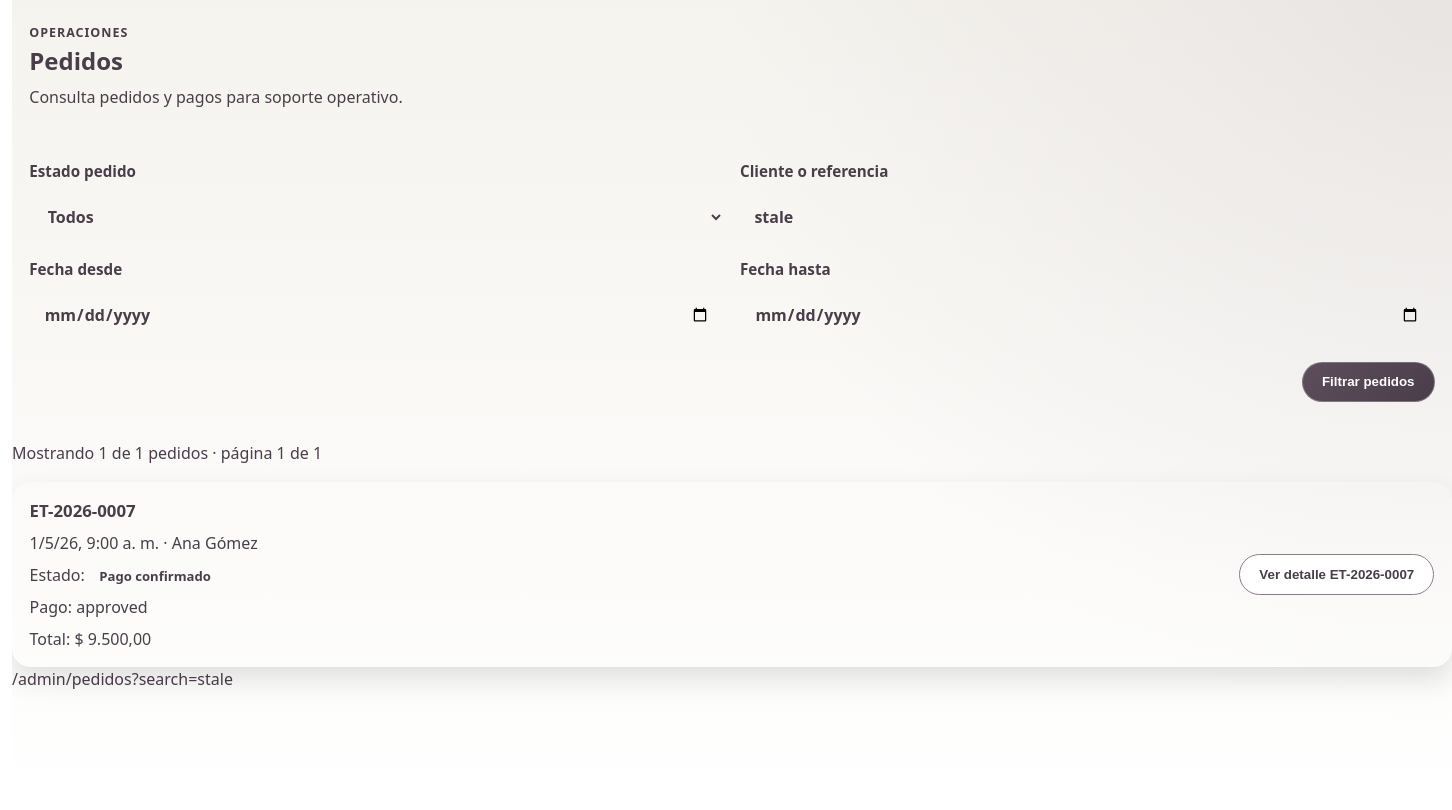
Test case: AdminOrdersPage › syncs submitted order filters back to stable query params
Expected: the text "ET-2026-0007" is shown, top-left (30, 498), bottom-right (136, 522)
Select "PAID" in the dropdown labelled "Estado pedido" at (377, 217), box top-left (29, 192), bottom-right (724, 242)
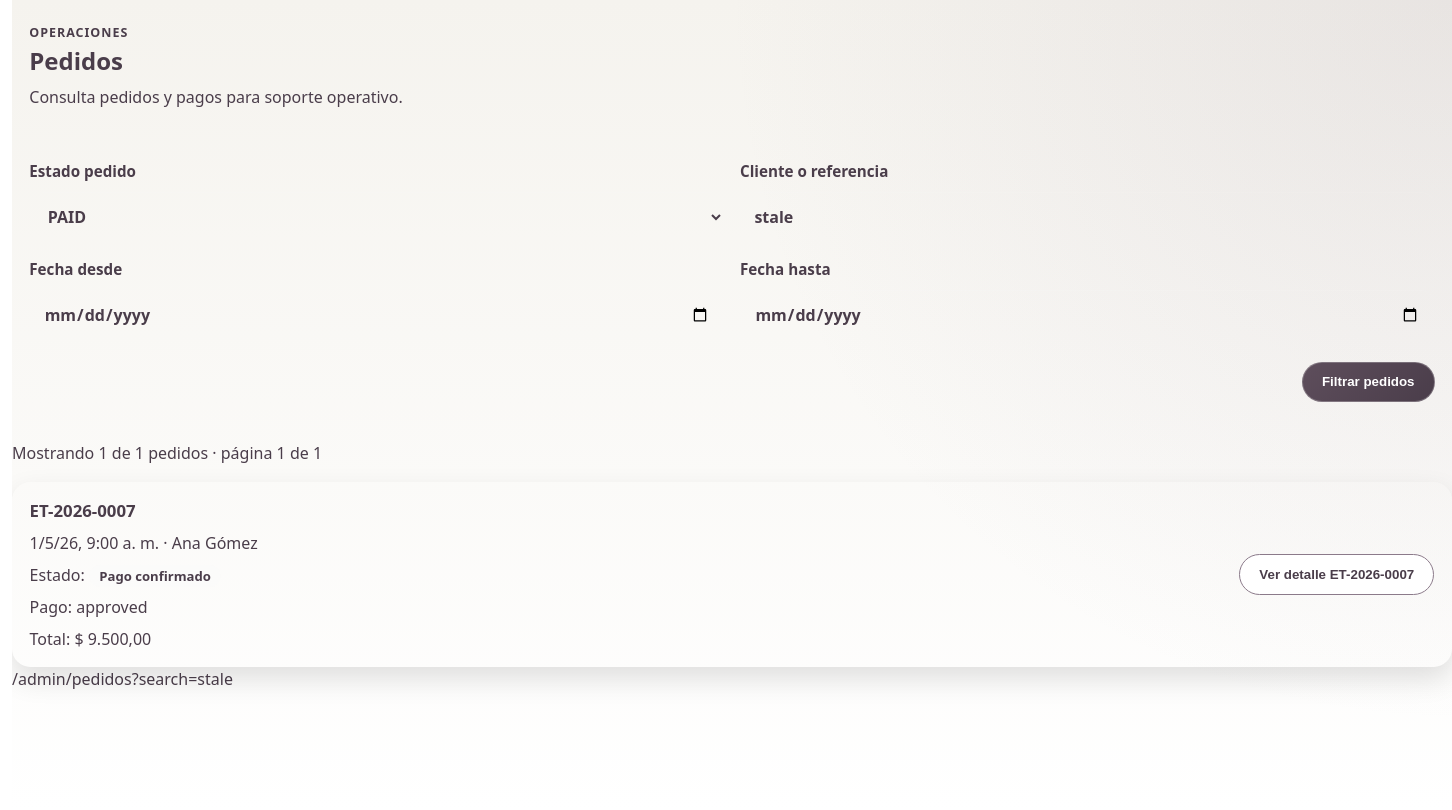
Replace the text in the field labelled "Cliente o referencia" with " Ana " at (1087, 217), box top-left (740, 192), bottom-right (1435, 242)
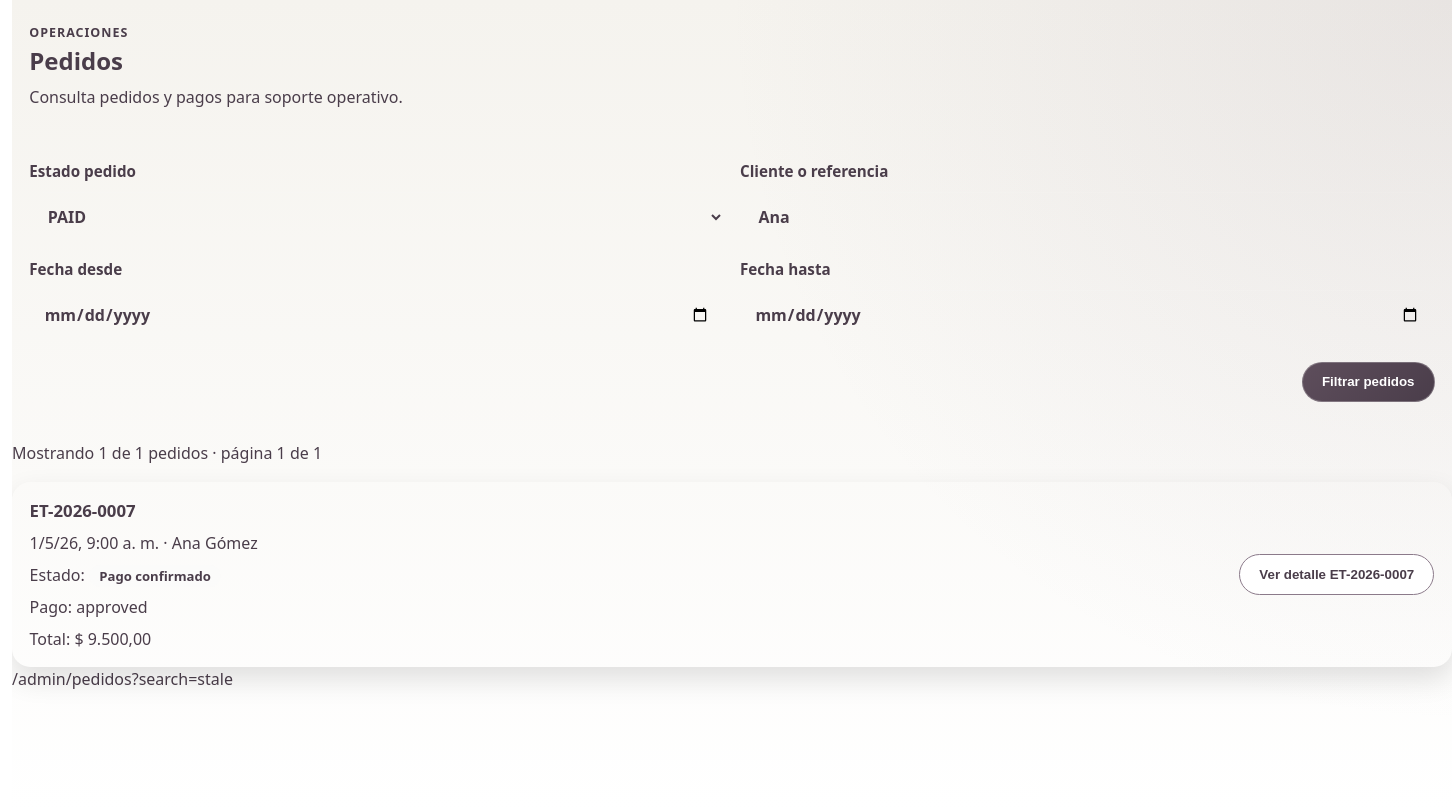
Type "2026-05-01" into the date field labelled "Fecha desde" at (377, 315), box top-left (29, 290), bottom-right (724, 340)
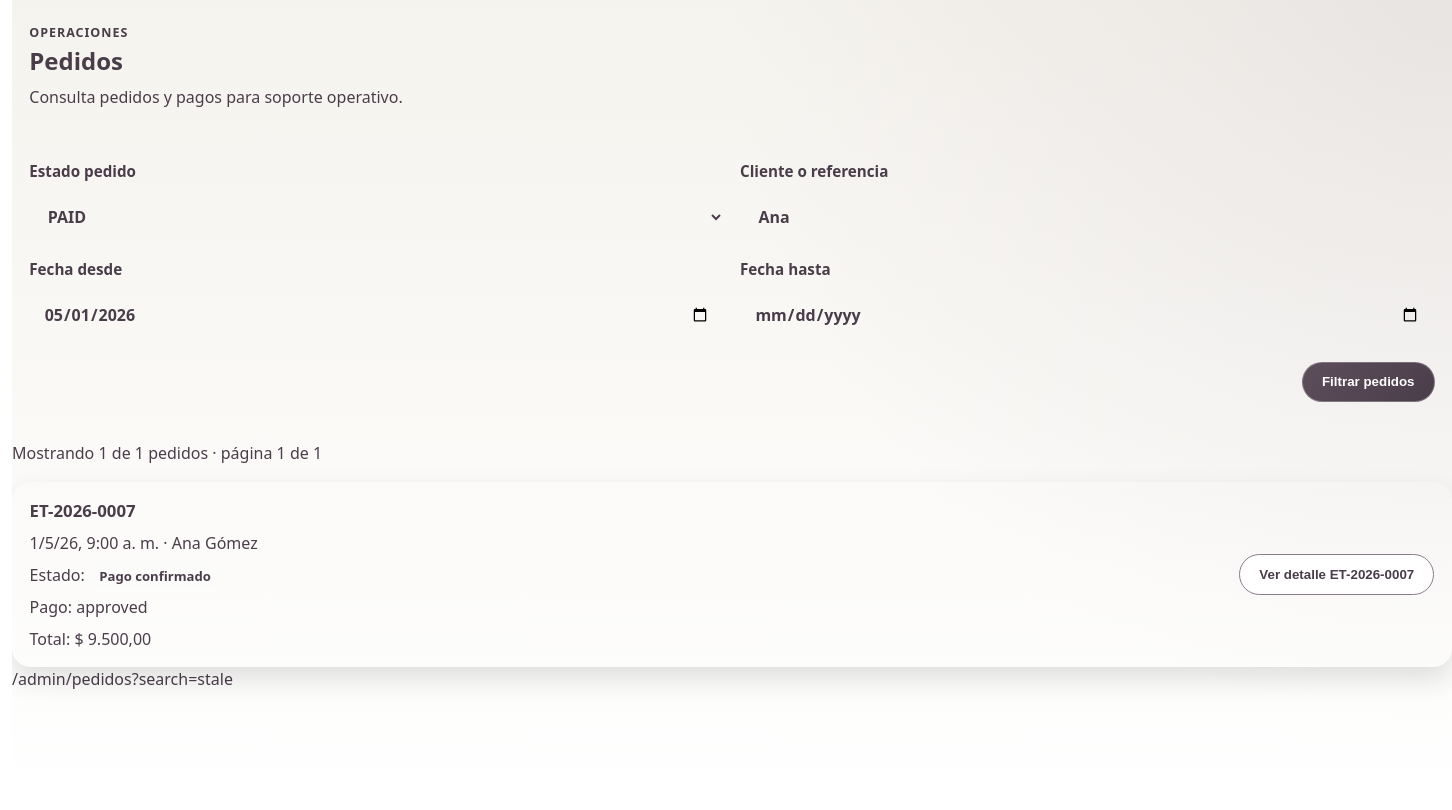
Type "2026-05-31" into the date field labelled "Fecha hasta" at (1087, 315), box top-left (740, 290), bottom-right (1435, 340)
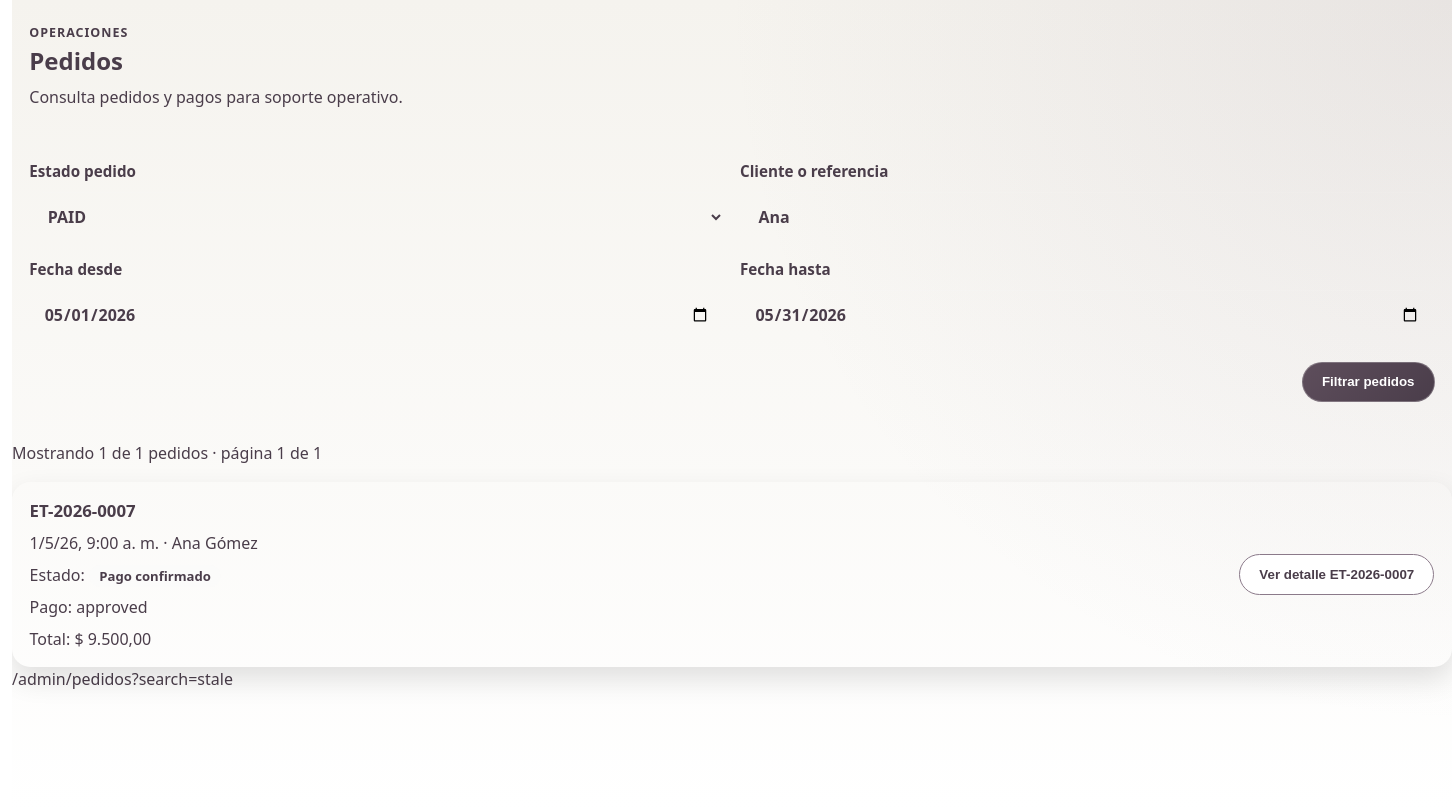
Click the button "Filtrar pedidos" at (1368, 382), box top-left (1302, 362), bottom-right (1435, 402)
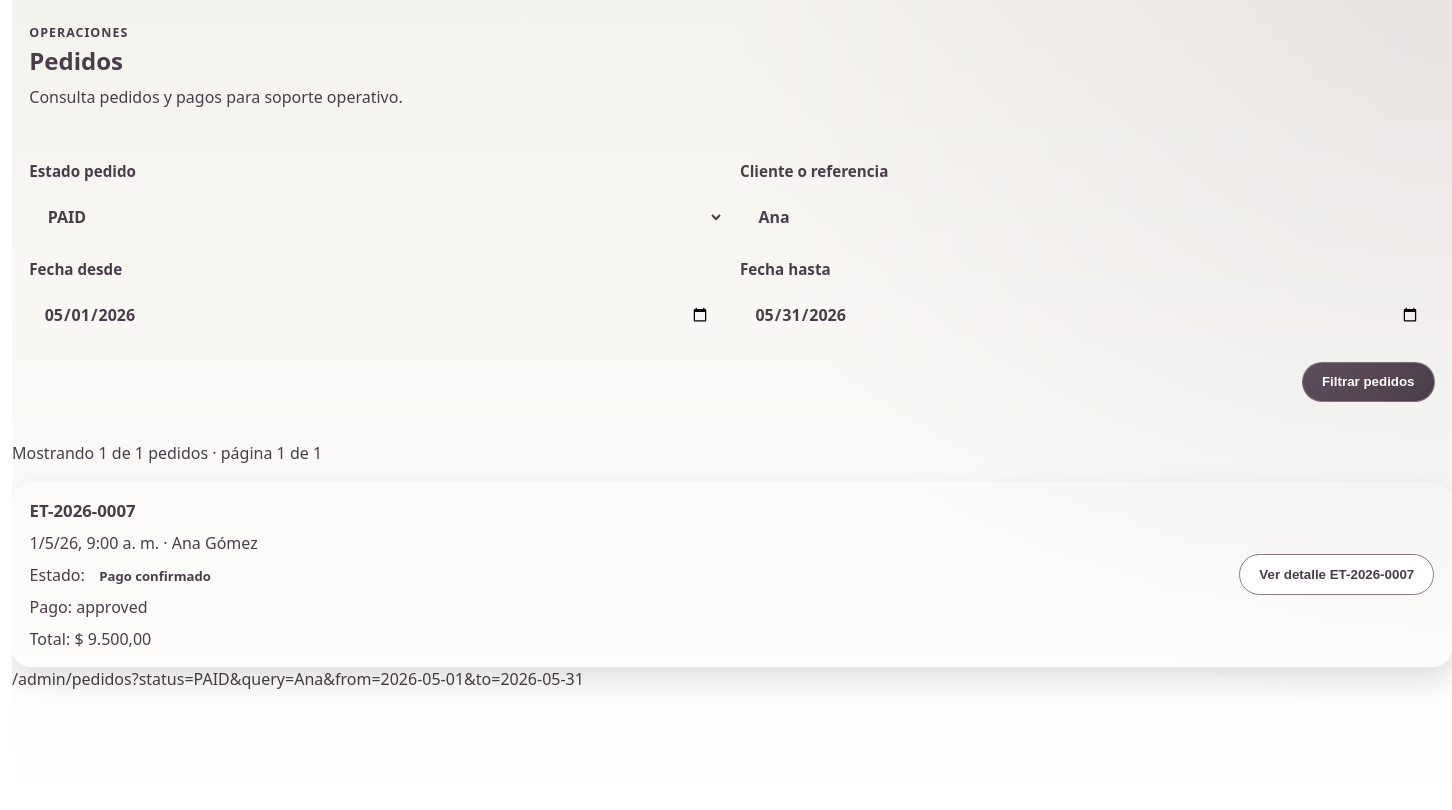
Expected: the text with test id "orders-location" reads "/admin/pedidos?status=PAID&query=Ana&from=2026-05-01&to=2026-05-31", top-left (12, 668), bottom-right (584, 690)
Expected: the text with test id "orders-location" no longer shows "search=stale", top-left (12, 668), bottom-right (584, 690)
